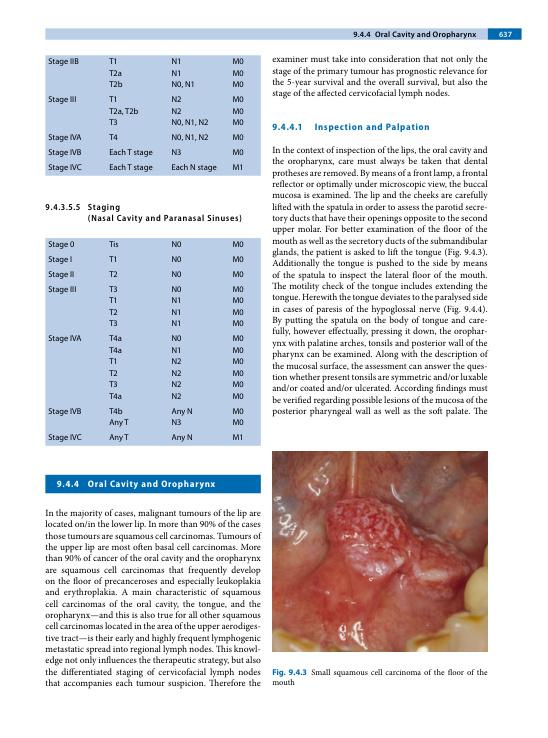caption: (271, 667, 488, 686), (86, 202, 243, 224)
header: (374, 30, 477, 40)
image: (271, 450, 488, 653)
section-heading: (87, 479, 216, 490)
sub-section-heading: (314, 122, 430, 133)
table: (44, 237, 262, 447), (44, 53, 262, 178)
text: (270, 144, 489, 418), (44, 507, 262, 690), (270, 54, 489, 101)
